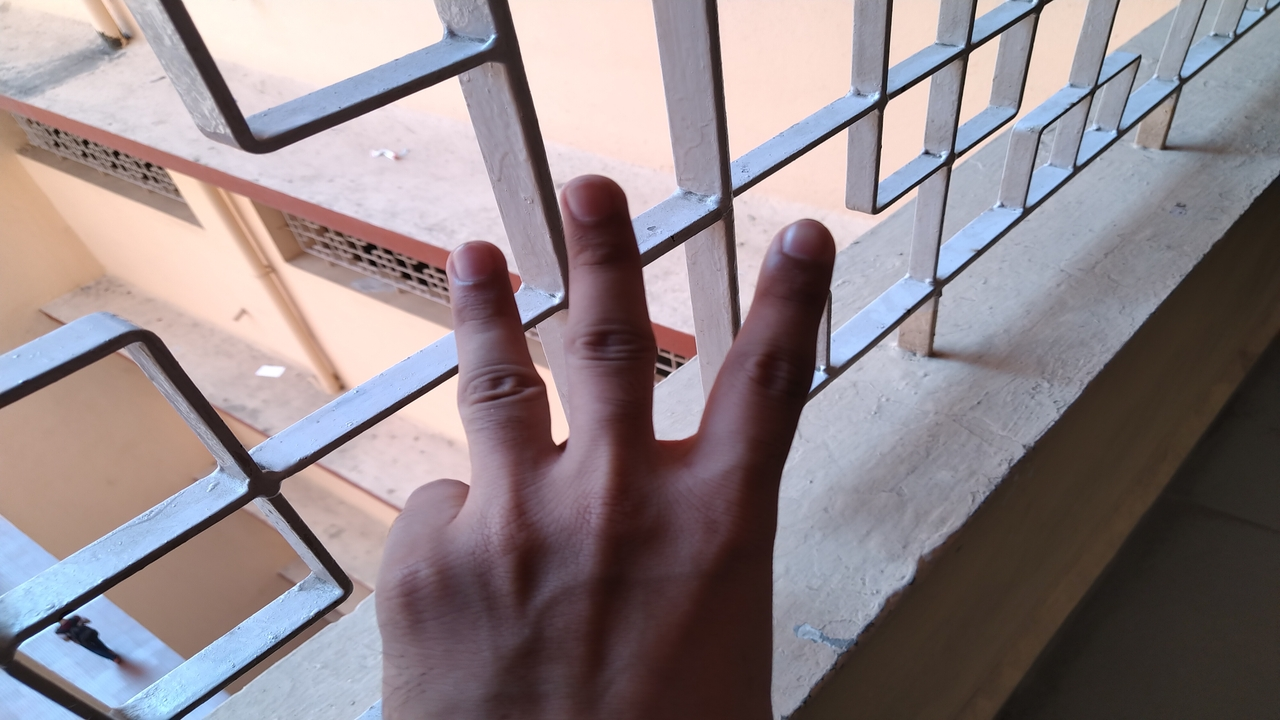fingertip: (766, 214, 840, 278), (558, 178, 628, 230), (444, 238, 504, 298)
